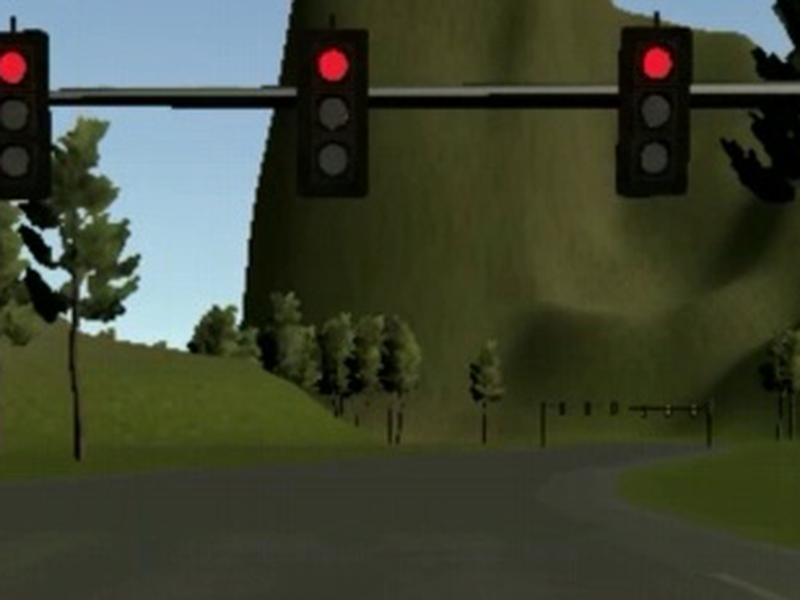Red: (615, 25, 692, 197), (296, 30, 368, 198), (1, 30, 50, 198)
